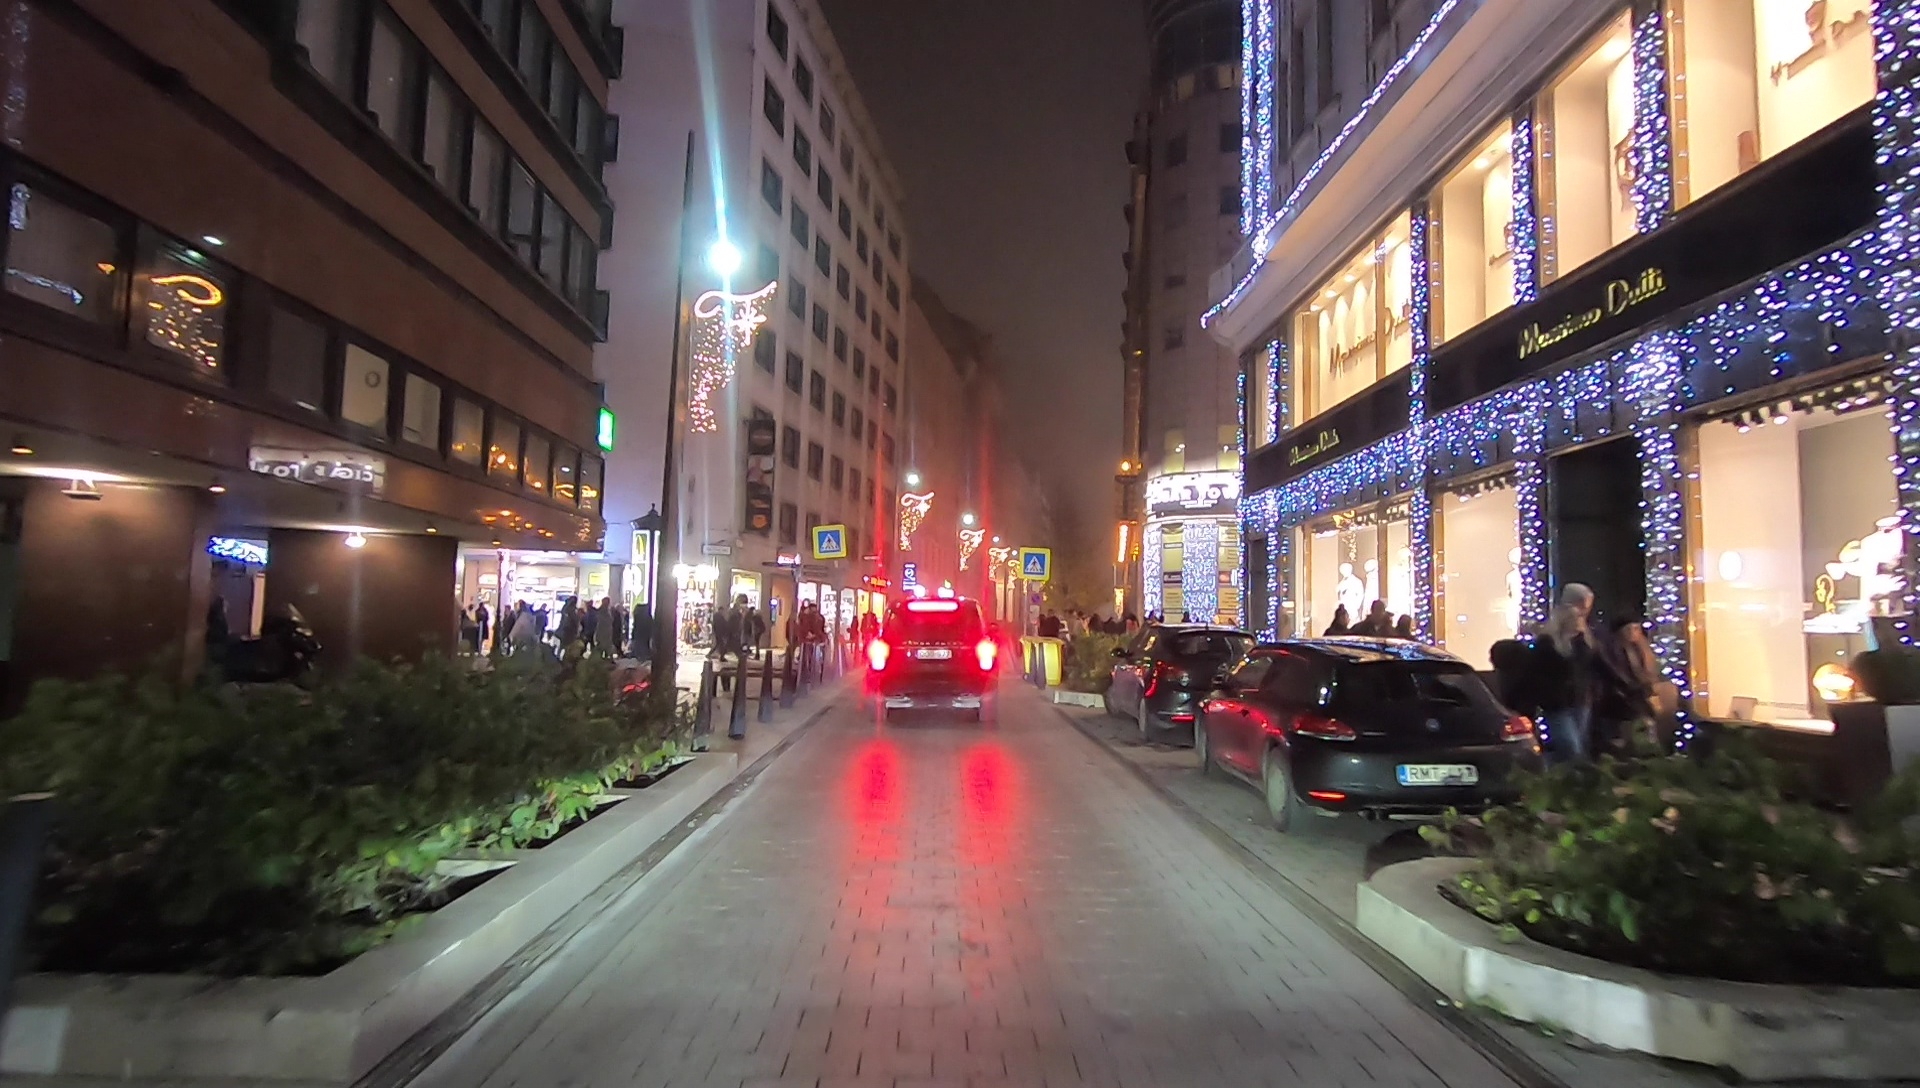person: (1515, 604, 1602, 815), (1599, 613, 1660, 791), (1564, 582, 1615, 789)
